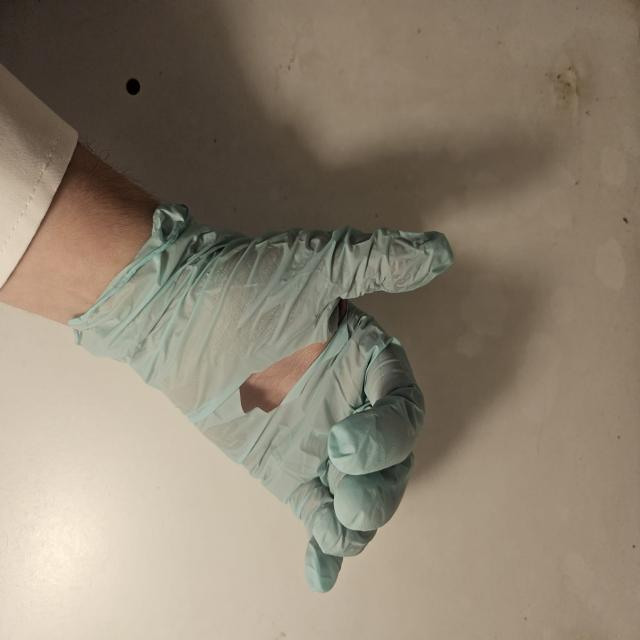gloves_damaged: (81, 192, 458, 598)
